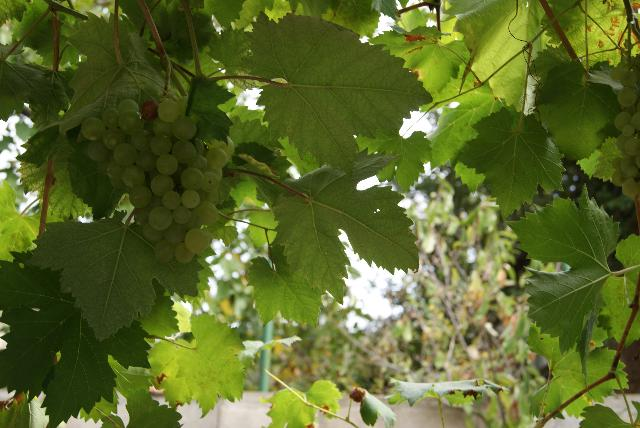grapes: (80, 99, 234, 262)
